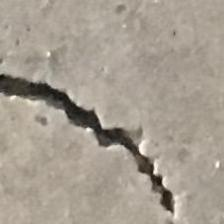Crack: (2, 52, 184, 224)
